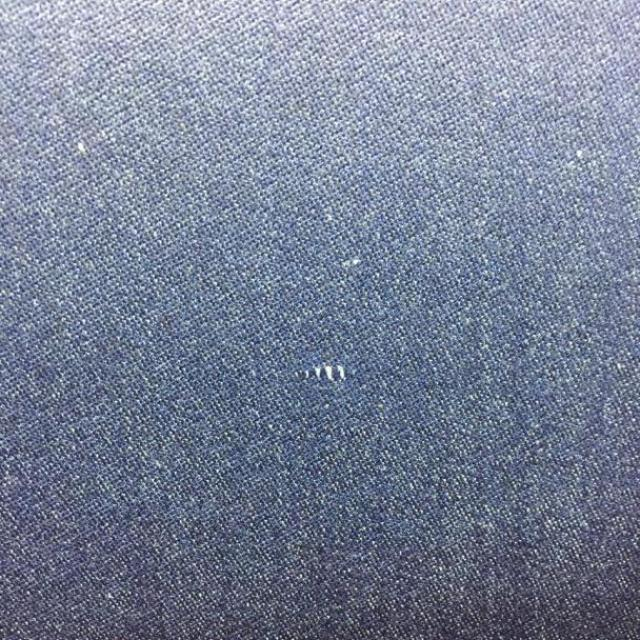Knot: (295, 364, 349, 383)
